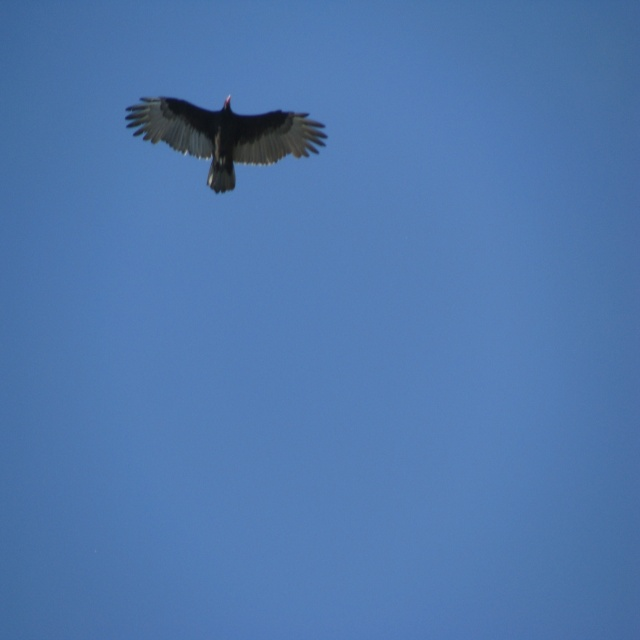Eagle: (123, 91, 328, 197)
